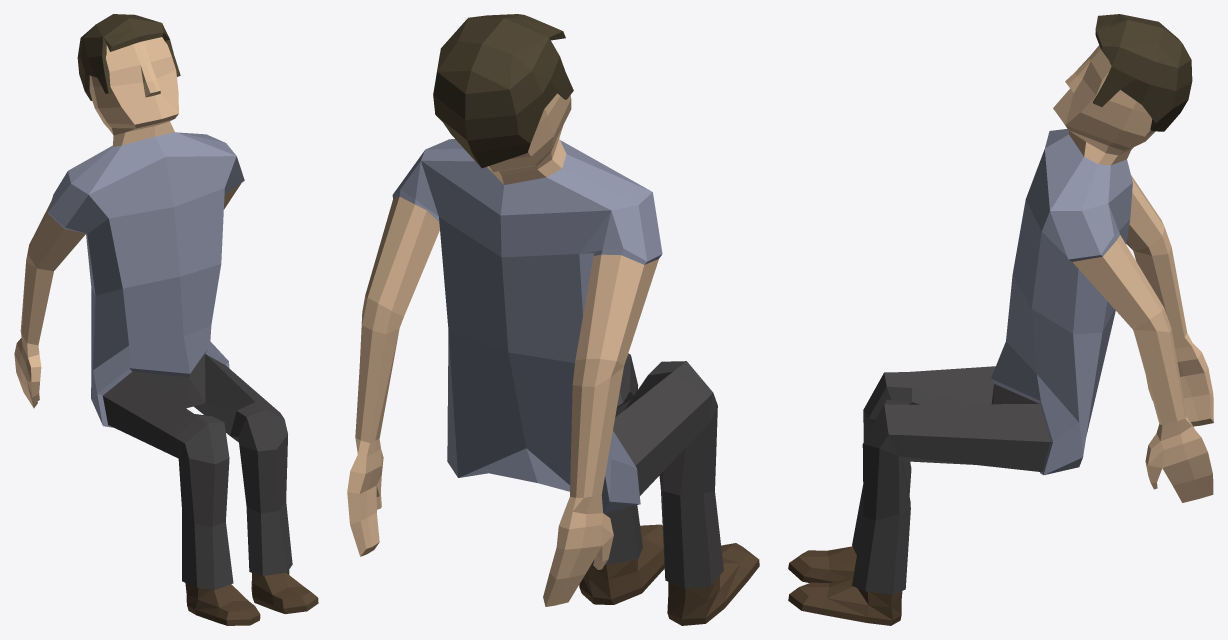
File: Male_Crowd_SittingLeaningBack.glb
The picture shows the model from 3 angles, left to right: view 1: azimuth 30°, elevation 25°; view 2: azimuth 150°, elevation 25°; view 3: azimuth 270°, elevation 25°; orthographic projection. The views are drawn at different scales.
Visible parts, largest first — view 1: Male_Crowd_SittingLeaningBack; view 2: Male_Crowd_SittingLeaningBack; view 3: Male_Crowd_SittingLeaningBack.
Part boxes in pixels (<box>): Male_Crowd_SittingLeaningBack: <box>14,14,318,625</box>; Male_Crowd_SittingLeaningBack: <box>347,14,759,625</box>; Male_Crowd_SittingLeaningBack: <box>788,14,1213,625</box>.
Size of the model in its own units: 0.5654 by 1.48 by 0.9794.
